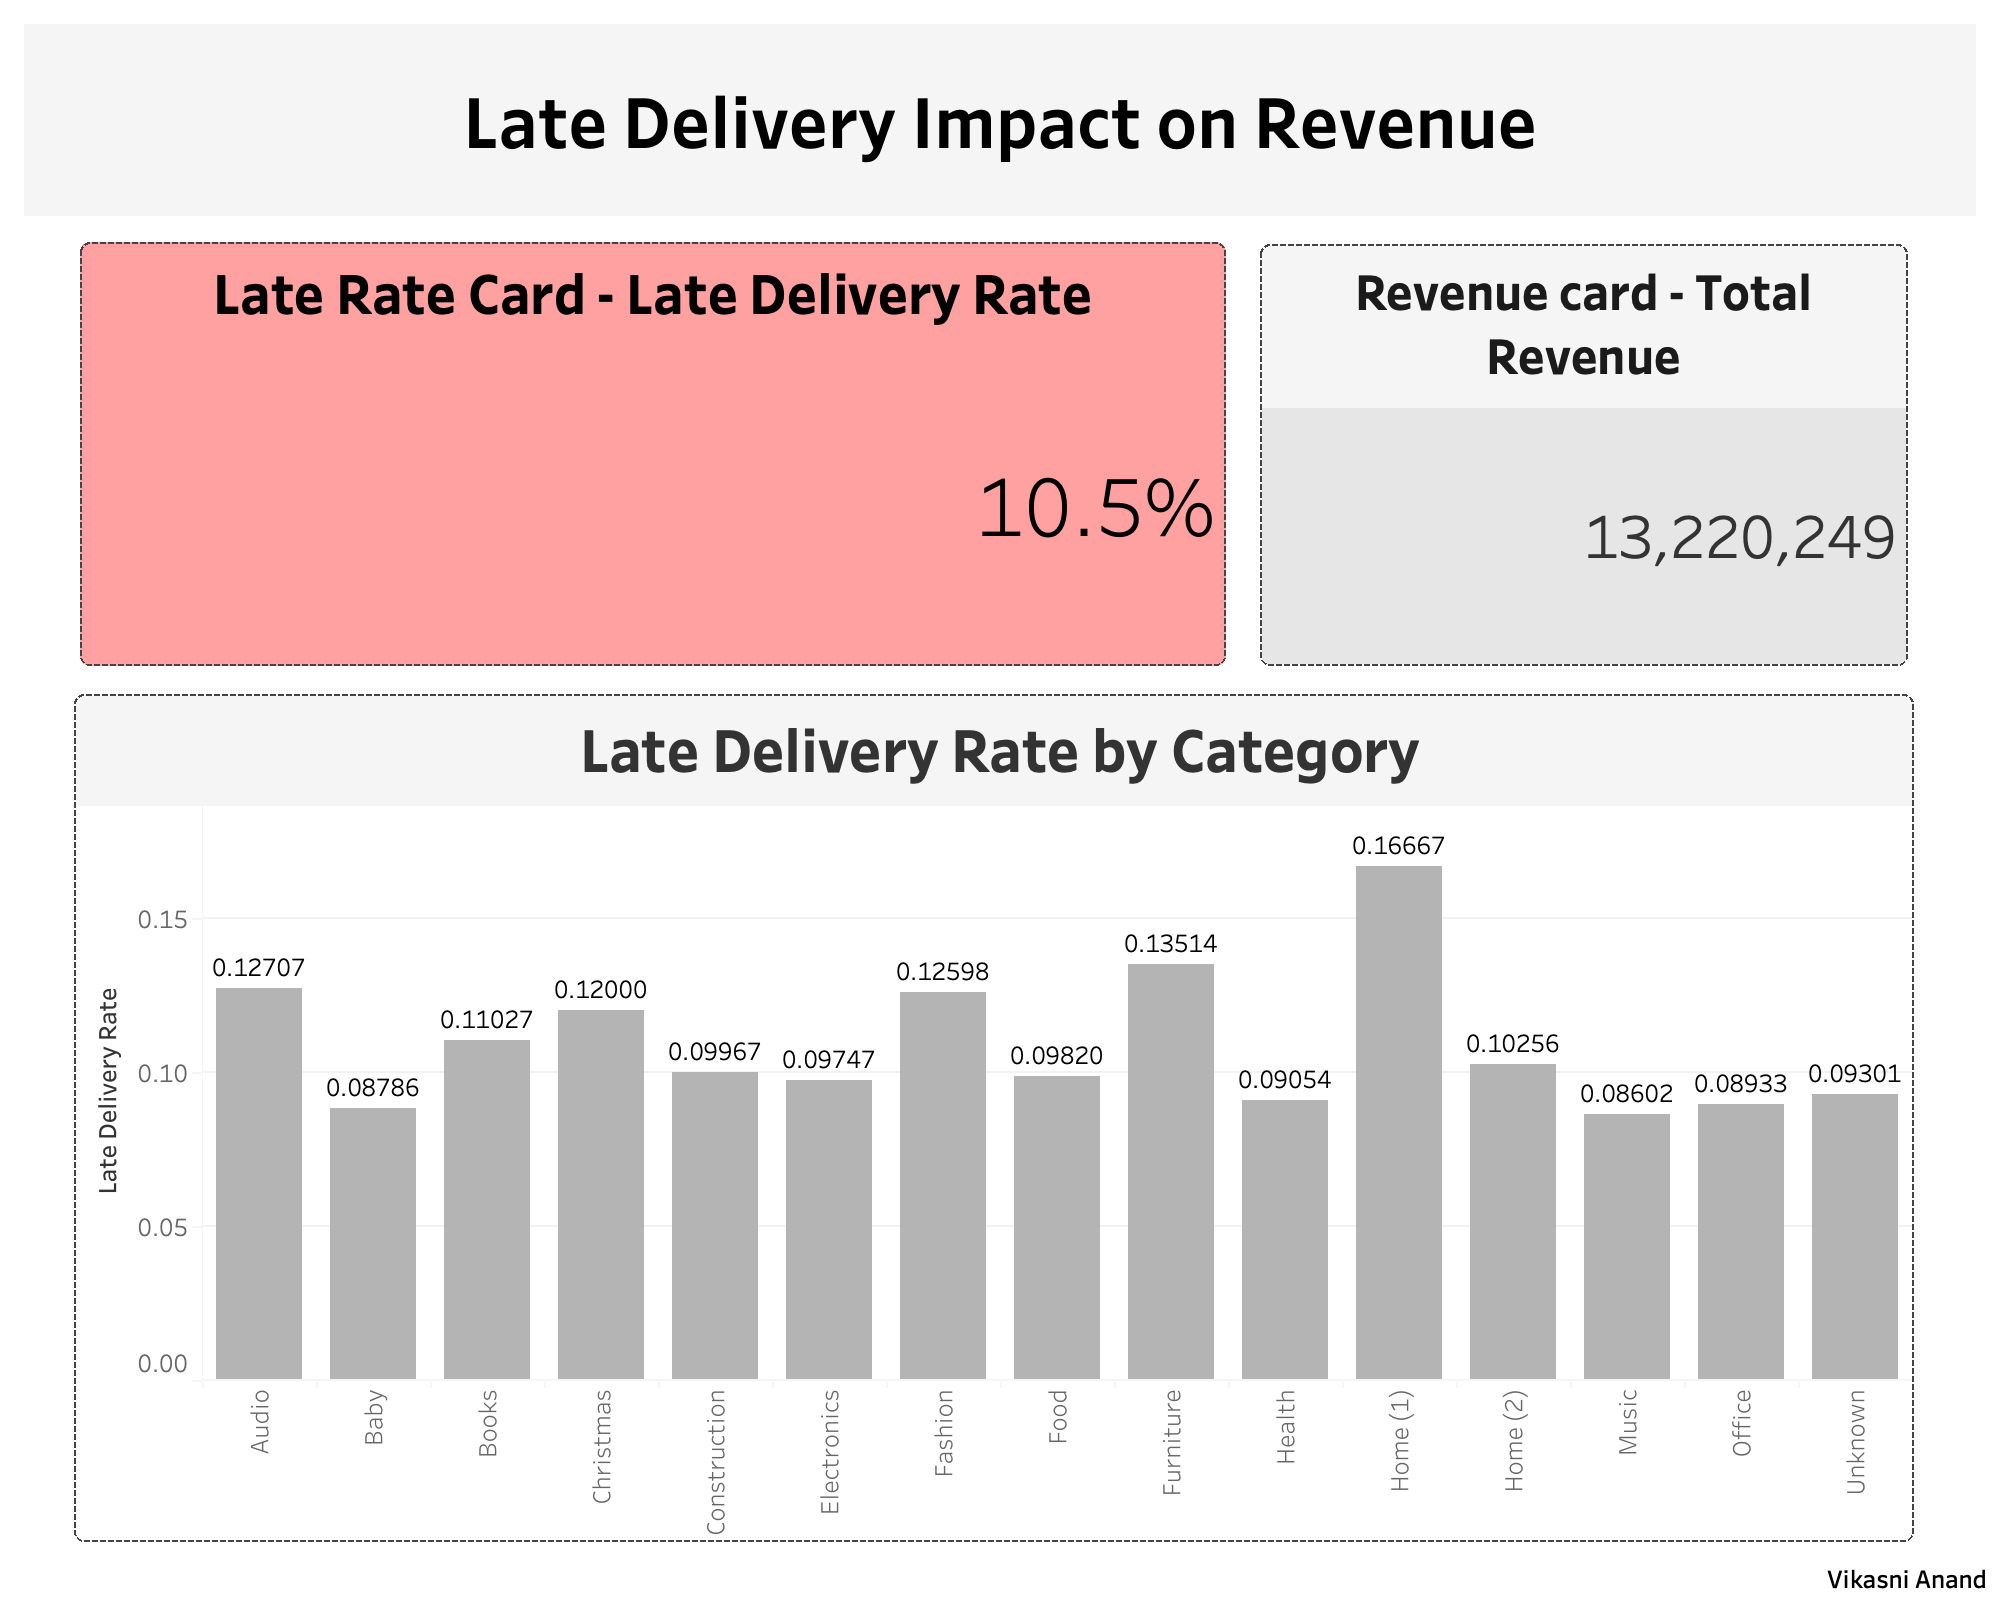

This screenshot's page, from the dashboard's own definition file:
{"tool":"tableau","page":{"name":"Dashboard 1","canvas":[1000,800],"ordinal":0},"visuals":[{"type":"title","box":[8,8,984,34]},{"type":"worksheet","title":"Sheet 4","mark":"Text","box":[8,42,357,73.6]},{"type":"worksheet","title":"Sheet 2","mark":"Automatic","rows":["seller_id"],"cols":["avg_handover_days"],"box":[365,42,301,412.3]},{"type":"worksheet","title":"Sheet 7","mark":"Text","rows":["table_name","check_name","severity"],"box":[666,42,326,749.8]},{"type":"worksheet","title":"Sheet 5","mark":"Text","box":[8,115.6,357,86.6]},{"type":"worksheet","title":"Sheet 6","mark":"Text","box":[8,202.2,357,86.6]},{"type":"worksheet","title":"Sheet 1","mark":"Automatic","rows":["revenue"],"cols":["year_month"],"box":[8,288.8,357,503.2]},{"type":"worksheet","title":"Sheet 3","mark":"Automatic","rows":["late_rate"],"cols":["category_en"],"box":[365,454.3,301,337.7]}]}

Visuals, with their boxes in screenshot pixels (x1, y1, x2, y2), scaled from the page's 1000x800 canvas onto the 2000x1600 screenshot:
title: rect(16, 16, 1984, 84)
"Sheet 4" worksheet (Text marks): rect(16, 84, 730, 231)
"Sheet 2" worksheet: rect(730, 84, 1332, 909)
"Sheet 7" worksheet (Text marks): rect(1332, 84, 1984, 1584)
"Sheet 5" worksheet (Text marks): rect(16, 231, 730, 404)
"Sheet 6" worksheet (Text marks): rect(16, 404, 730, 578)
"Sheet 1" worksheet: rect(16, 578, 730, 1584)
"Sheet 3" worksheet: rect(730, 909, 1332, 1584)
